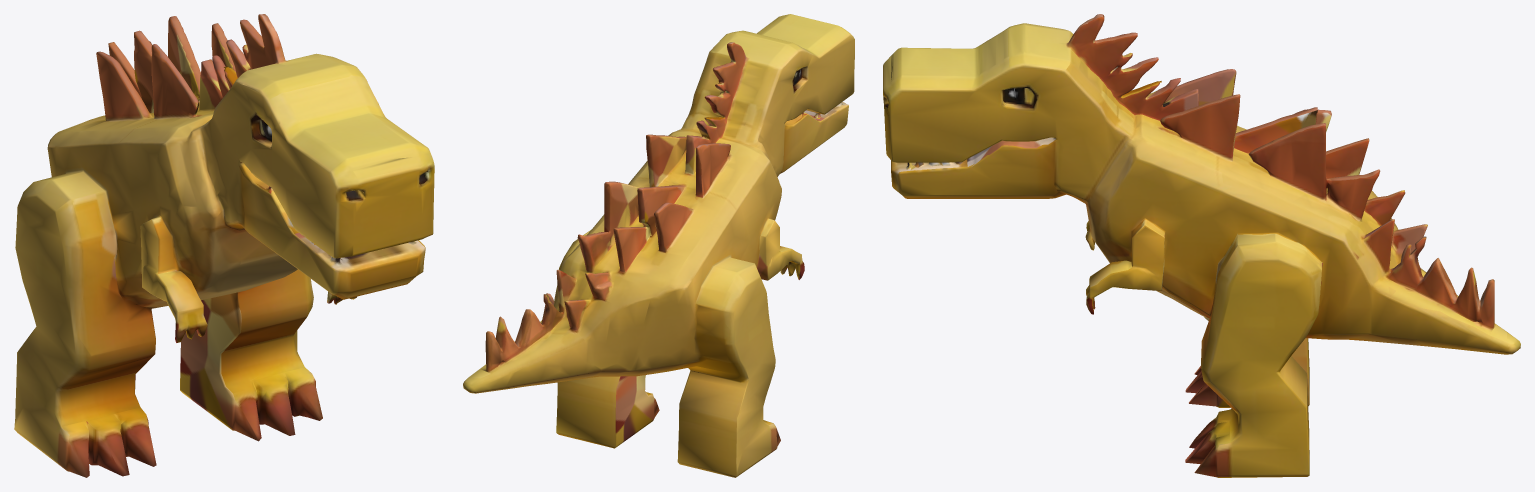
Rendered from dino.glb.
3 renders of one model, left to right at view 1: azimuth 30°, elevation 25°; view 2: azimuth 150°, elevation 25°; view 3: azimuth 270°, elevation 25°, orthographic. The views are drawn at different scales.
Parts seen in each view (by area): view 1: Dinosaur; view 2: Dinosaur; view 3: Dinosaur.
Part boxes in pixels (x1=…): Dinosaur: x1=14, y1=14, x2=434, y2=477; Dinosaur: x1=463, y1=14, x2=854, y2=477; Dinosaur: x1=883, y1=14, x2=1520, y2=477.
Size of the model in its own units: 0.2163 by 0.38 by 0.5308.
1 material, 1 textured.
